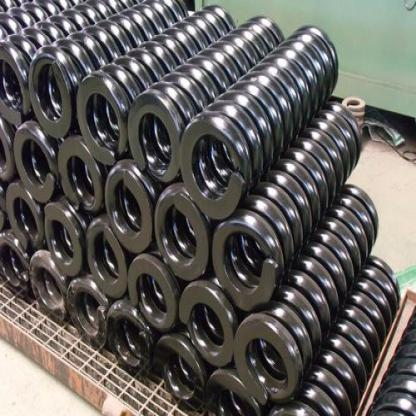FOD: (231, 179, 380, 407), (211, 100, 364, 316), (179, 22, 343, 219), (127, 13, 286, 184), (76, 2, 234, 166), (27, 0, 187, 140)
